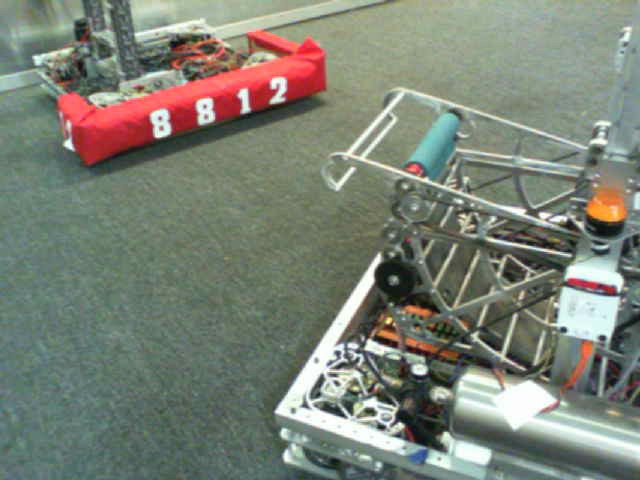Robot: (284, 100, 640, 474), (37, 1, 333, 164)
